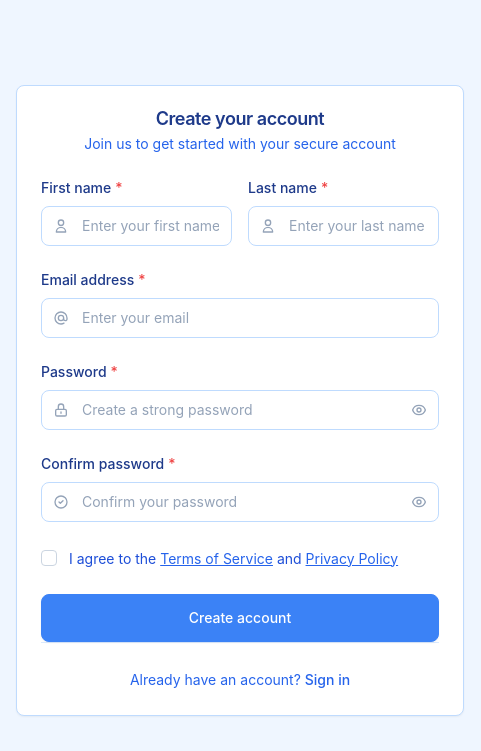
Test: SignupForm › Form Validation › should show error for weak password
The image size is (481, 751).
Type "weak" into the password field labelled "Password*" at (240, 410), box [41,390,439,430]
(page scrolled)
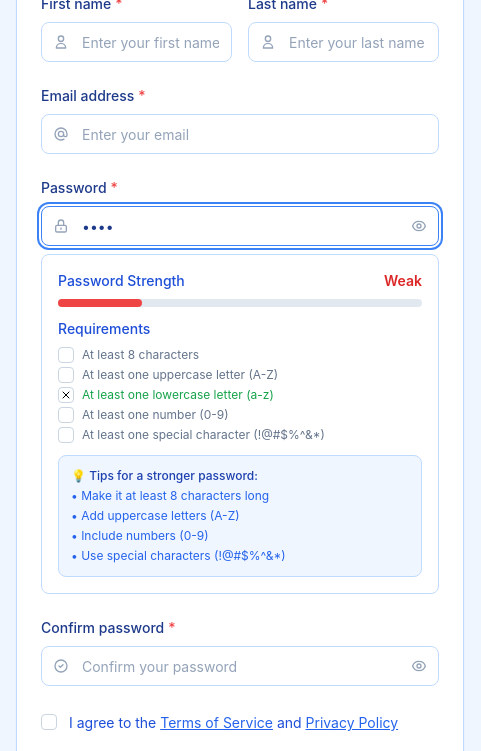
Submit the form
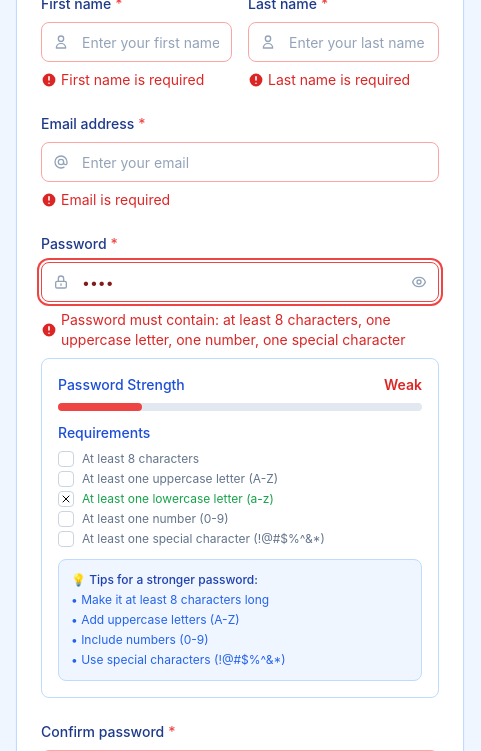
Now the text "Password must contain:" is shown, box [61,311,406,348]
